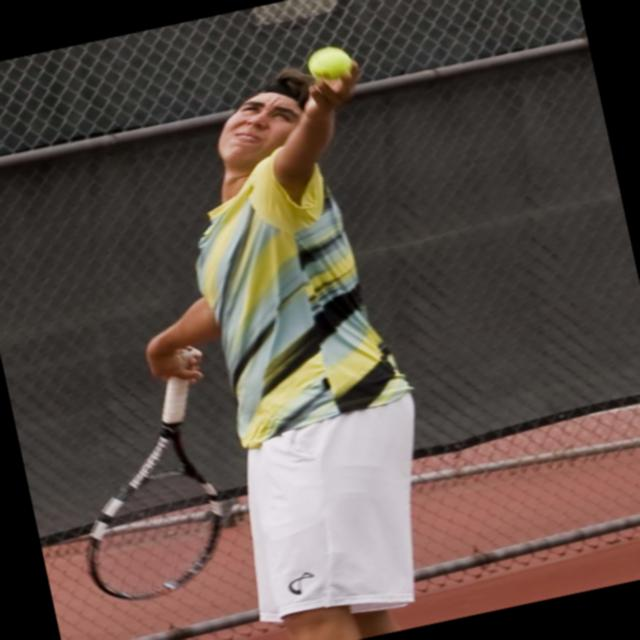Tennis ball: (305, 43, 355, 84)
